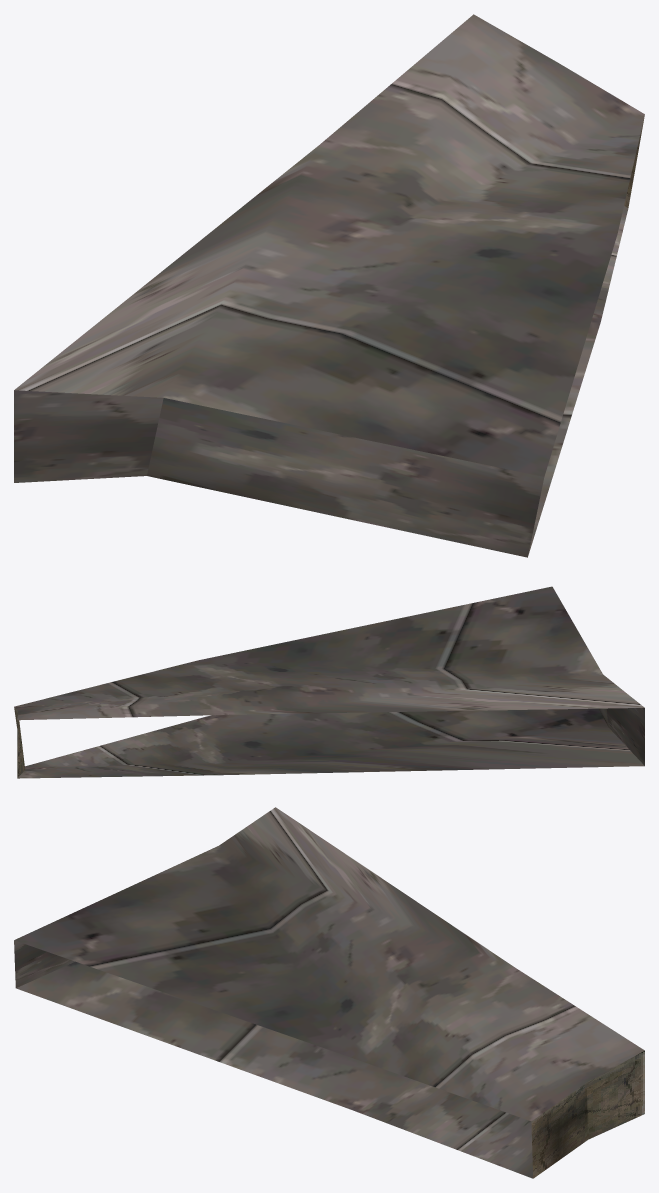
File: CH09_SMAUG_PLAYSURFACE_LAIR21.fbx
3 views of the same model, one above another, from view 1: azimuth 30°, elevation 25°; view 2: azimuth 150°, elevation 25°; view 3: azimuth 270°, elevation 25° (orthographic). The views are drawn at different scales.
Parts seen in each view (by area): view 1: CH09_SMAUG_PLAYSURFACE_LAIR21; view 2: CH09_SMAUG_PLAYSURFACE_LAIR21; view 3: CH09_SMAUG_PLAYSURFACE_LAIR21.
Boxes of the visible parts, x1,y1,x2,y2 form: CH09_SMAUG_PLAYSURFACE_LAIR21: [14, 14, 644, 557]; CH09_SMAUG_PLAYSURFACE_LAIR21: [14, 586, 644, 778]; CH09_SMAUG_PLAYSURFACE_LAIR21: [14, 807, 644, 1178].
Size of the model in its own units: 56301 by 10004 by 55031.
2 materials, 2 textured.
